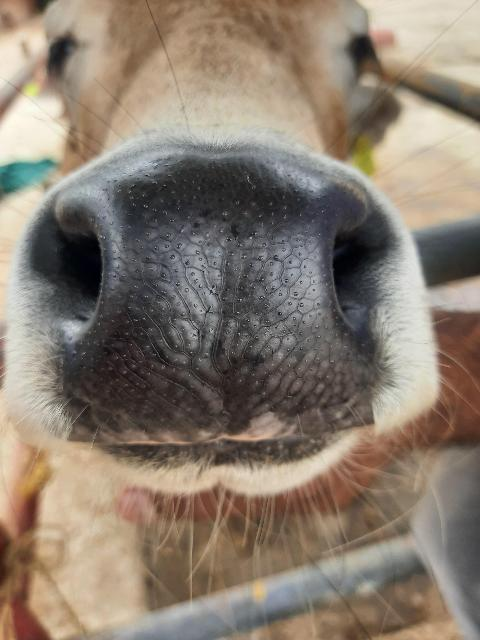Muzzle: (78, 165, 366, 428)
